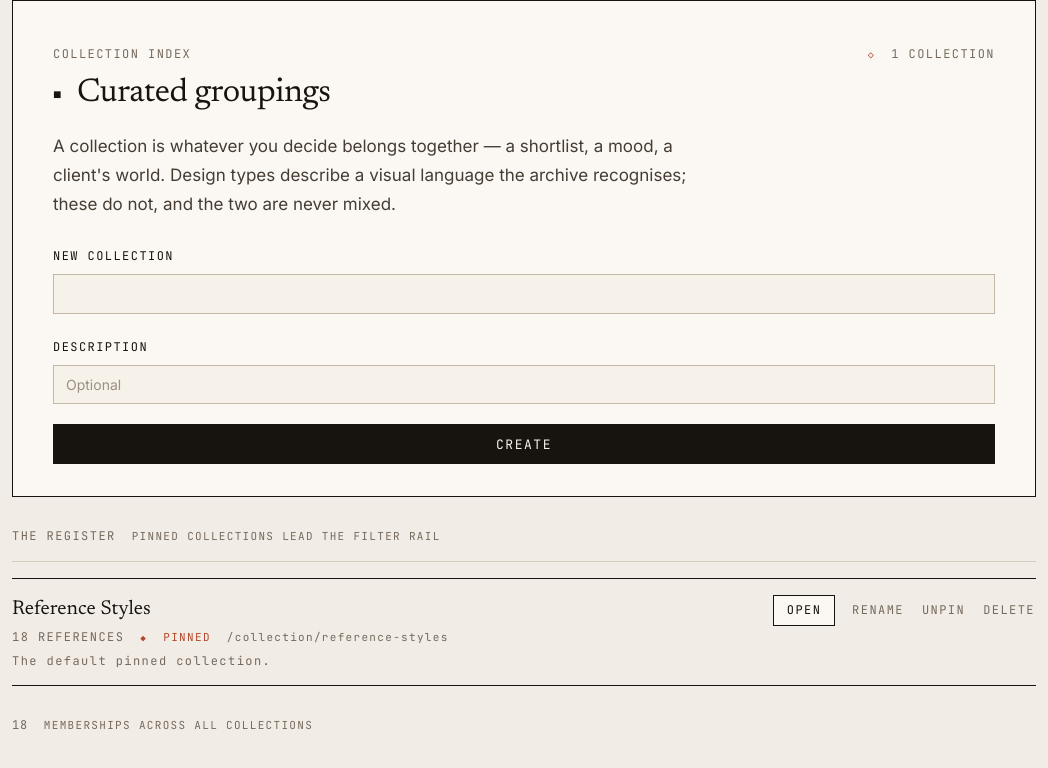
creating a collection › sends the name and description, then shows the new row
Expected: the link "Reference Styles" is shown, [12,599,151,619]
Type "Type Studies" into the field labelled "New collection" at point(524, 294), box [53,274,995,314]
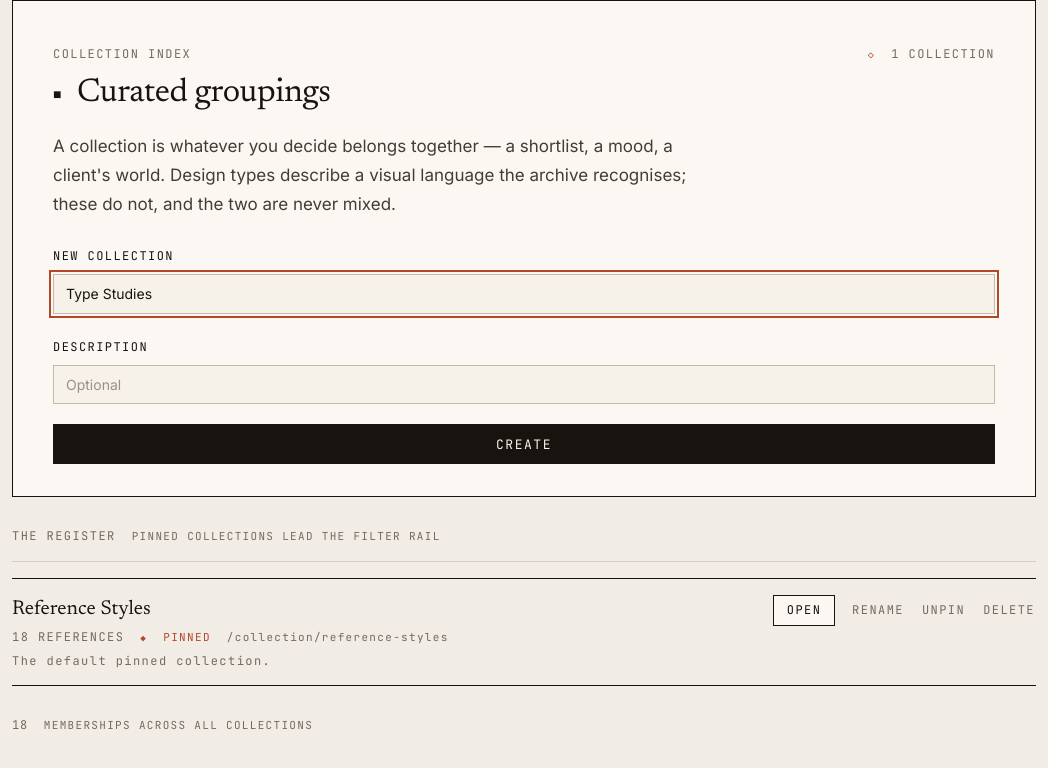
Type "Serif experiments" into the field labelled "Description" at point(524, 385), box [53,365,995,404]
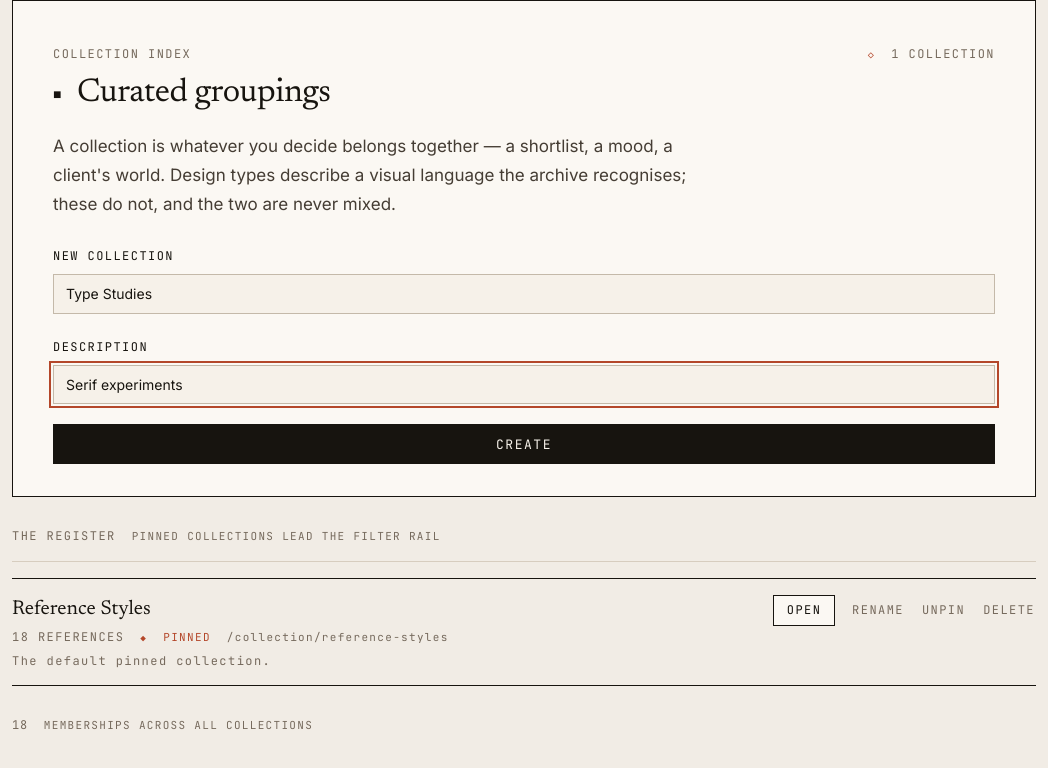
Click the button "Create" at point(524, 444), box [53,424,995,464]
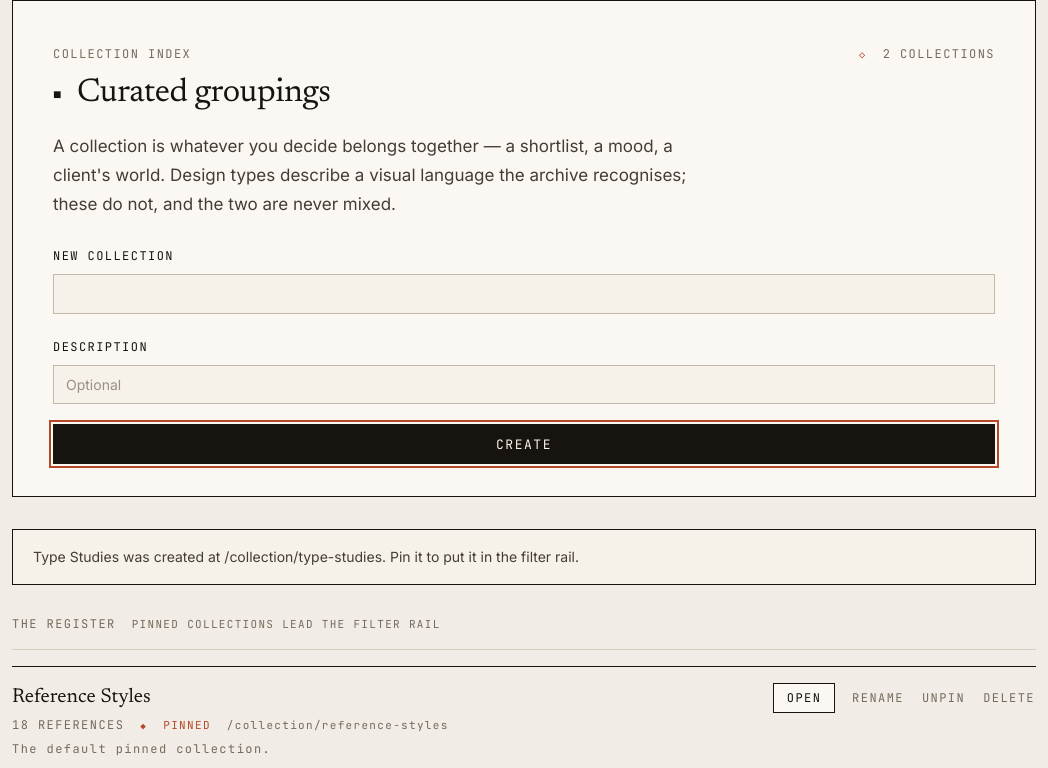
Expected: the message shows "Type Studies was created at /collection/type-studies", [33,548,579,565]
